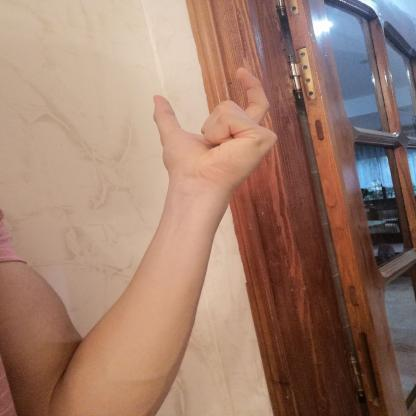NOON: (139, 58, 290, 199)
